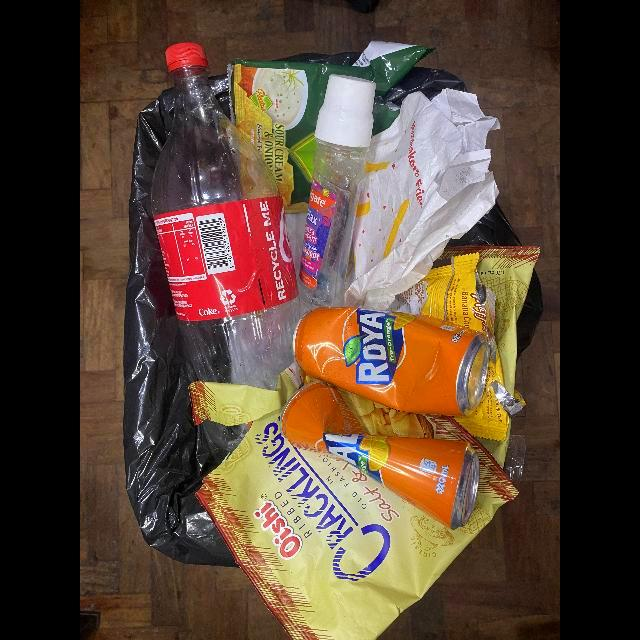aluminum: (281, 381, 480, 531), (294, 308, 493, 420)
food_wrapper: (188, 361, 520, 640), (228, 40, 434, 215), (386, 244, 540, 469), (420, 253, 528, 440)
paper: (347, 87, 505, 310)
plastic_bottle: (151, 45, 301, 387), (297, 75, 377, 307)
